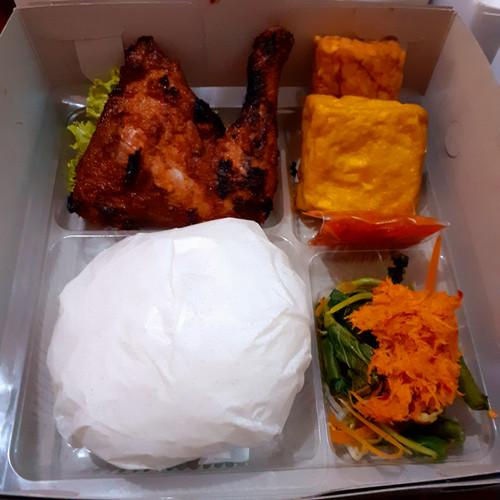buah_sayur_vitA: (330, 284, 450, 424)
daging: (96, 131, 268, 203)
kacang_legume: (316, 108, 410, 205), (325, 40, 396, 87)
makanan_berpati: (102, 258, 260, 417)
